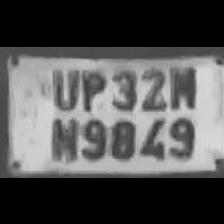2: (138, 64, 168, 110)
3: (108, 64, 138, 110)
4: (138, 113, 167, 161)
8: (106, 114, 136, 160)
9: (165, 111, 197, 159), (78, 113, 106, 161)
N: (46, 112, 78, 160), (167, 62, 197, 108)
P: (77, 66, 107, 110)
U: (46, 66, 78, 110)
